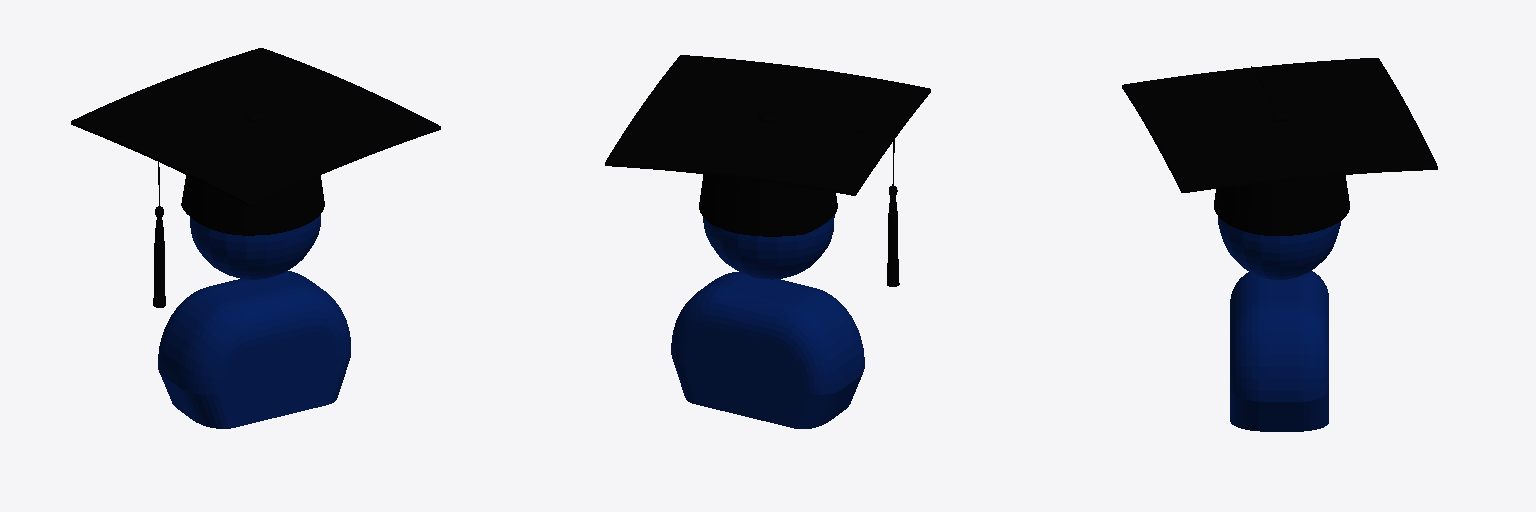
File: science.obj
3 renders of one model, left to right at view 1: azimuth 30°, elevation 25°; view 2: azimuth 150°, elevation 25°; view 3: azimuth 270°, elevation 25°, orthographic.
Visible parts, largest first — view 1: Edu_Icon; view 2: Edu_Icon; view 3: Edu_Icon.
Boxes of the visible parts, x1,y1,x2,y2 form: Edu_Icon: [71, 48, 440, 428]; Edu_Icon: [605, 55, 930, 428]; Edu_Icon: [1122, 58, 1437, 431].
Bounding box in the file's own units: 0.8274 × 0.8238 × 0.8295.